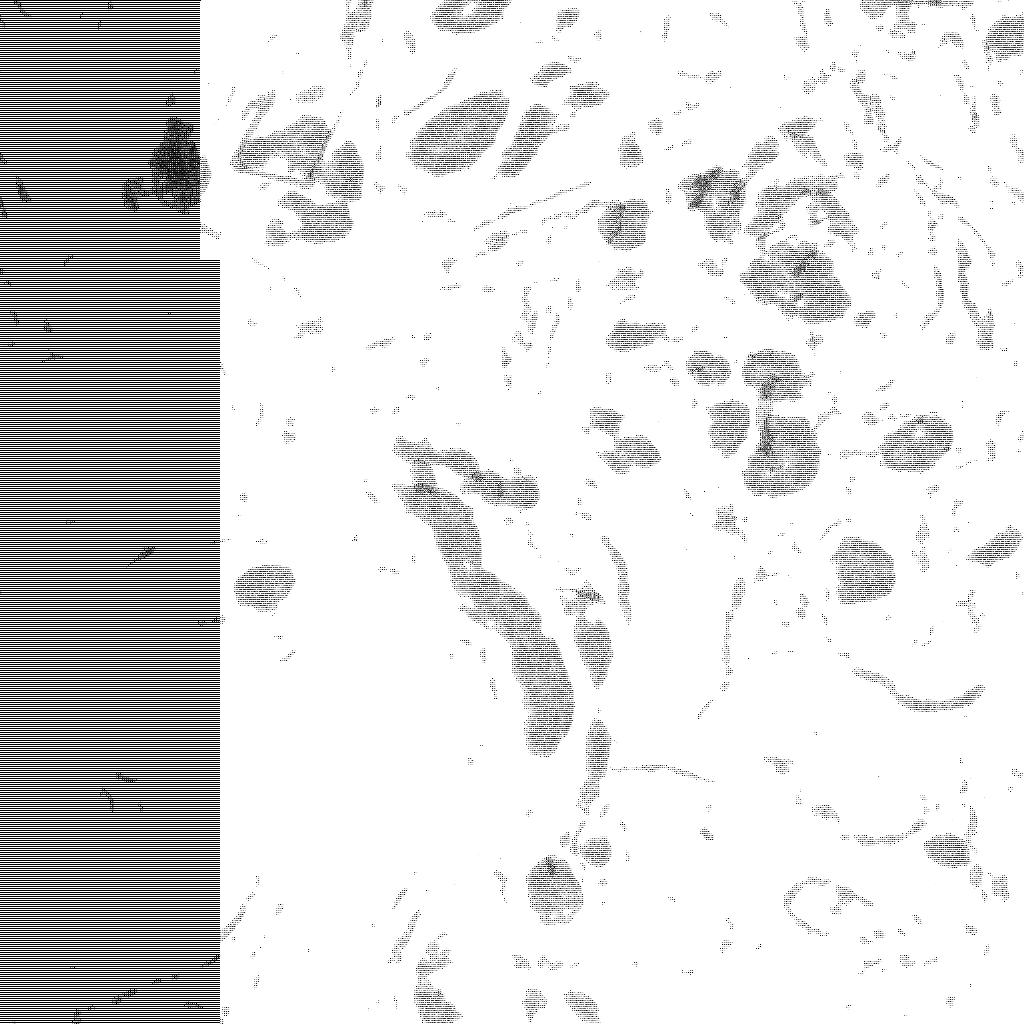axone: (398, 77, 515, 177), (737, 239, 856, 326), (230, 108, 333, 191), (737, 410, 826, 501), (146, 109, 215, 220), (674, 164, 752, 253), (489, 97, 570, 182), (828, 528, 900, 612), (874, 407, 955, 478), (262, 192, 357, 251), (520, 851, 589, 930), (565, 609, 623, 691), (229, 562, 302, 616), (589, 195, 656, 253), (314, 136, 371, 204), (699, 392, 753, 462), (602, 312, 674, 359), (920, 825, 979, 877)
